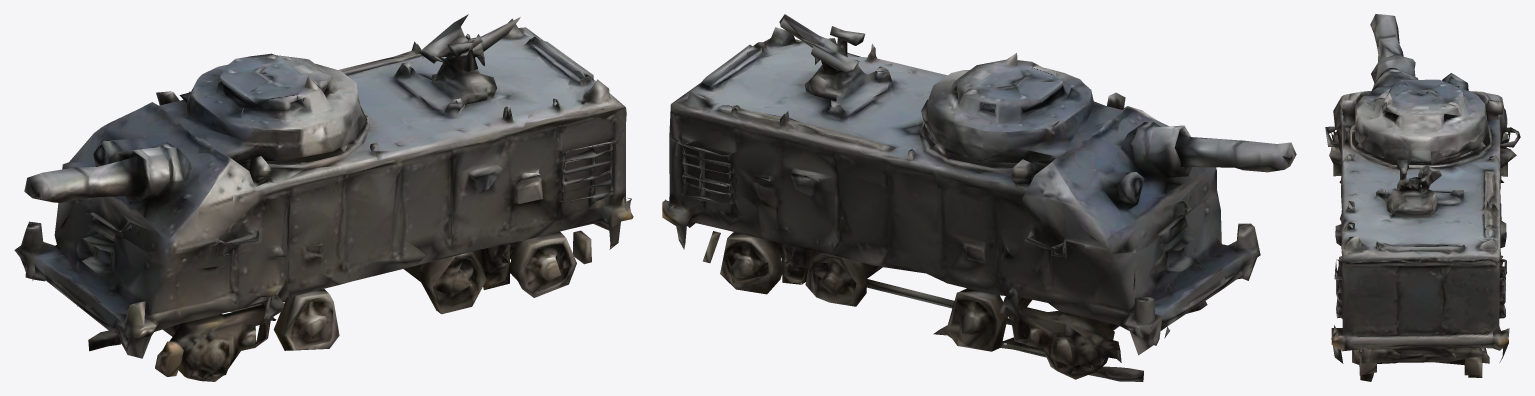
The model's file is p8traincar.glb.
3 renders of one model, left to right at view 1: azimuth 30°, elevation 25°; view 2: azimuth 150°, elevation 25°; view 3: azimuth 270°, elevation 25°, orthographic. The views are drawn at different scales.
Parts seen in each view (by area): view 1: tripo_node_1de4190e-83e3-4deb-b4c3-b05266c39dd6; view 2: tripo_node_1de4190e-83e3-4deb-b4c3-b05266c39dd6; view 3: tripo_node_1de4190e-83e3-4deb-b4c3-b05266c39dd6.
Boxes of the visible parts, <box> form: tripo_node_1de4190e-83e3-4deb-b4c3-b05266c39dd6: <box>14,14,633,381</box>; tripo_node_1de4190e-83e3-4deb-b4c3-b05266c39dd6: <box>662,14,1296,381</box>; tripo_node_1de4190e-83e3-4deb-b4c3-b05266c39dd6: <box>1325,14,1520,381</box>.
Size of the model in its own units: 0.9992 by 0.4431 by 0.3798.
1 material, 1 textured.
